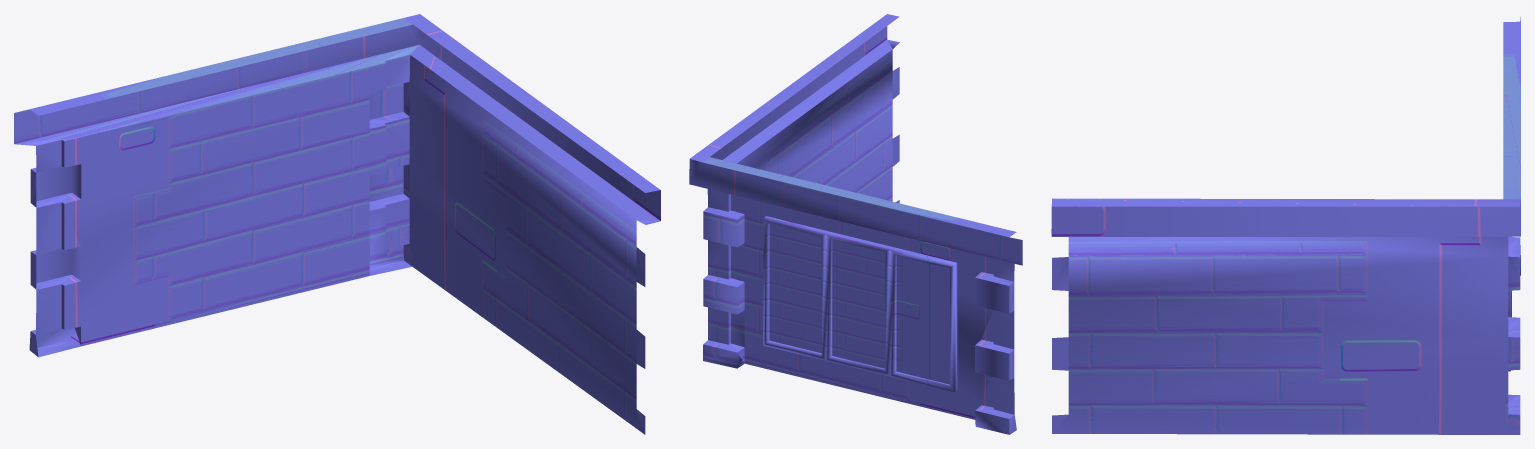
The model's file is lefthouseupperfull.fbx.
3 views of the same model, side by side, from view 1: azimuth 30°, elevation 25°; view 2: azimuth 150°, elevation 25°; view 3: azimuth 270°, elevation 25° (orthographic). The views are drawn at different scales.
Parts seen in each view (by area): view 1: UpperHouse; view 2: UpperHouse; view 3: UpperHouse.
Part boxes in pixels (box(x1,y1,x2,y2)): UpperHouse: box(14, 14, 660, 434); UpperHouse: box(689, 14, 1022, 434); UpperHouse: box(1051, 17, 1520, 434).
Size of the model in its own units: 131 by 75.19 by 135.
